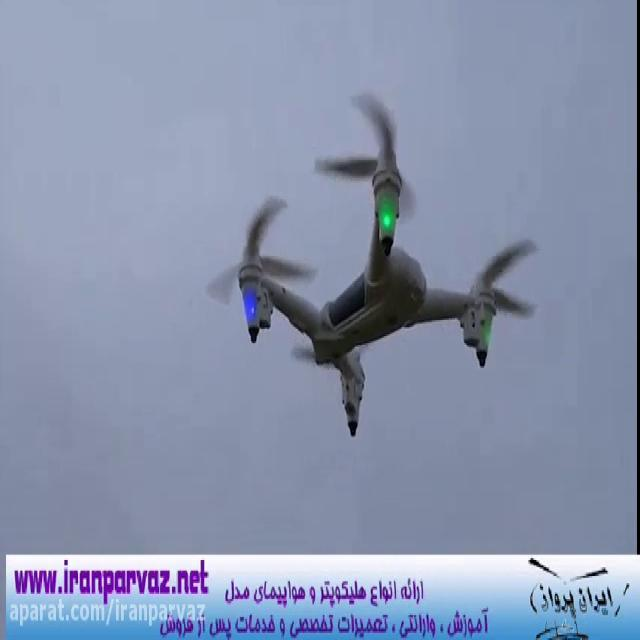drone: (200, 78, 545, 448)
